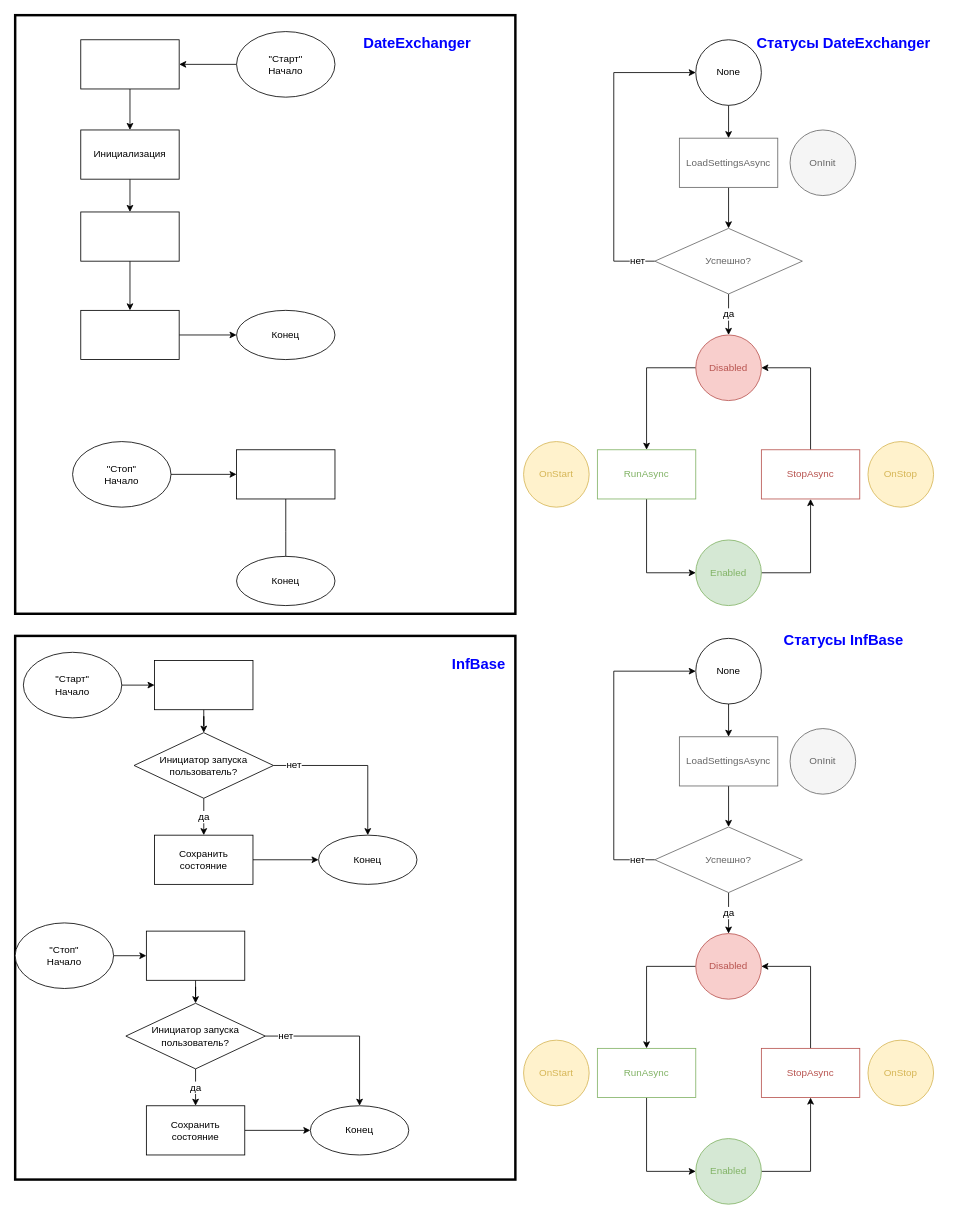
Image size: 956x1219. Some labels were removed from this diagram. The centre of each missing label's shape, as x and y in pixels:
Завершить InfBases: point (285, 474)
Запуск InfBases, у которых статус в БД "Enabled": point (129, 335)
Запустить InfBase: point (203, 685)
Остановить InfBase: point (195, 955)
Создание DataExchanger: point (129, 64)
Старт: point (129, 236)
